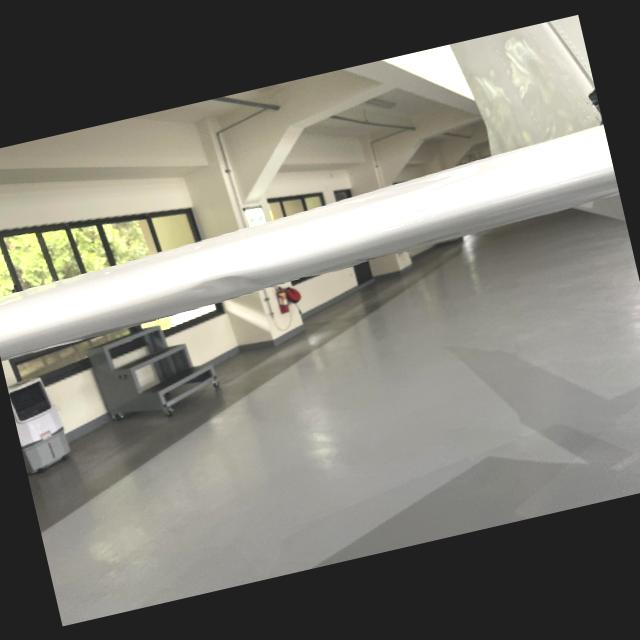dent: (171, 262, 264, 308)
